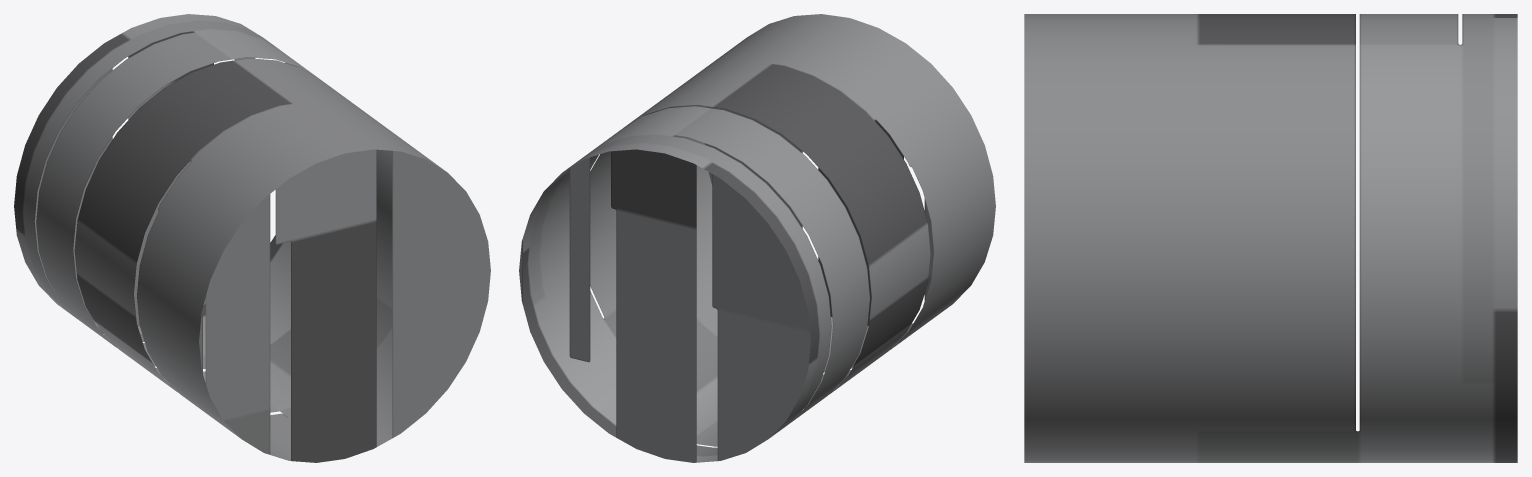
3 renders of one model, left to right at view 1: azimuth 30°, elevation 25°; view 2: azimuth 150°, elevation 25°; view 3: azimuth 270°, elevation 25°, orthographic. The views are drawn at different scales.
Bounding box in the file's own units: 0.7028 × 0.7028 × 0.7713.
